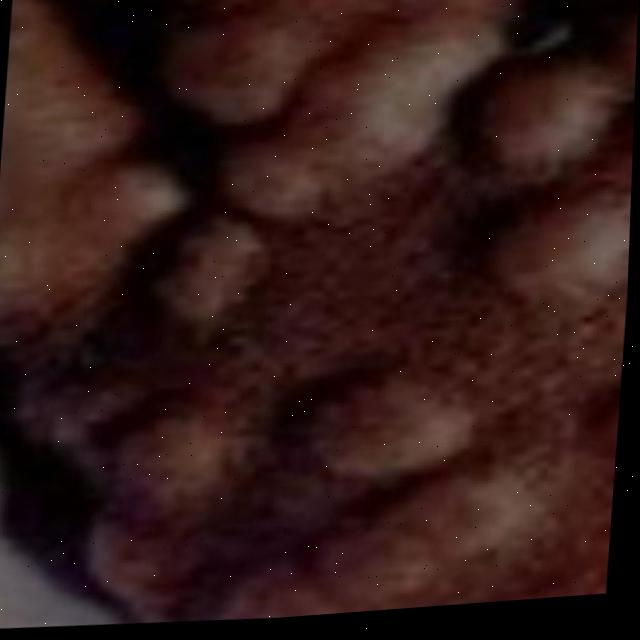Eczema: (65, 0, 639, 601)
